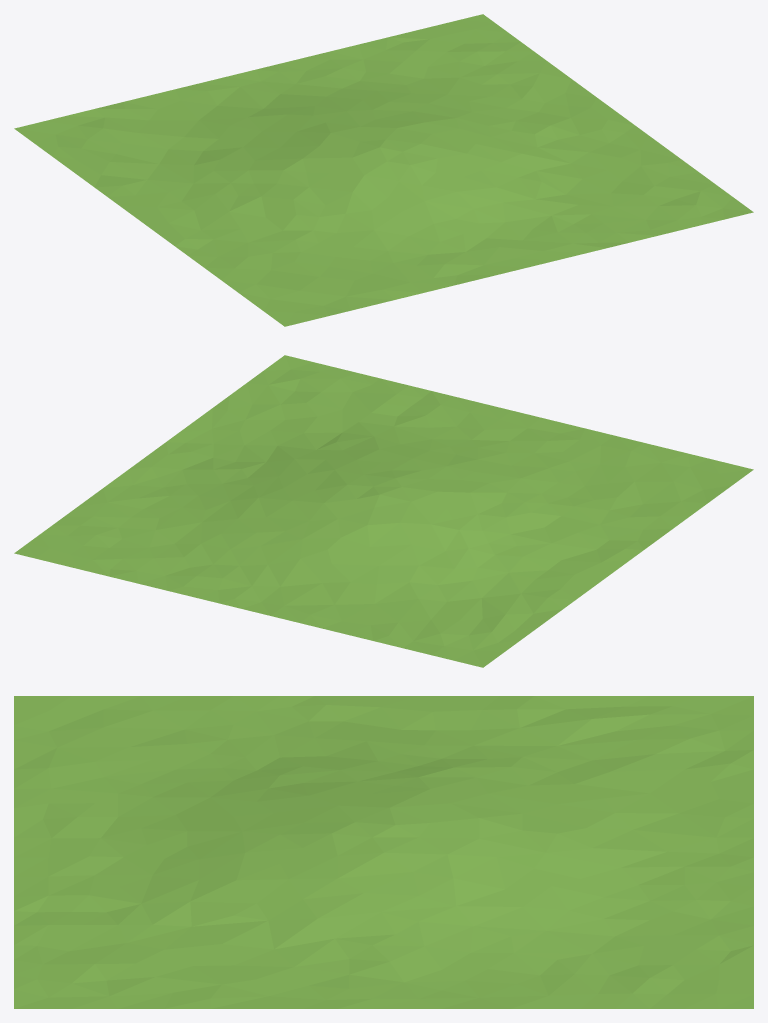
File: MT_Terrain_M_a_03.fbx
3 views of the same model, one above another, from view 1: azimuth 30°, elevation 25°; view 2: azimuth 150°, elevation 25°; view 3: azimuth 270°, elevation 25° (orthographic). The views are drawn at different scales.
Visible parts, largest first — view 1: MT_Terrain_M_a_03; view 2: MT_Terrain_M_a_03; view 3: MT_Terrain_M_a_03.
Boxes of the visible parts, box(x1,y1,x2,y2) form: MT_Terrain_M_a_03: box(14, 14, 753, 326); MT_Terrain_M_a_03: box(14, 355, 753, 667); MT_Terrain_M_a_03: box(14, 696, 753, 1008).
Size of the model in its own units: 5000 by 212 by 5000.
